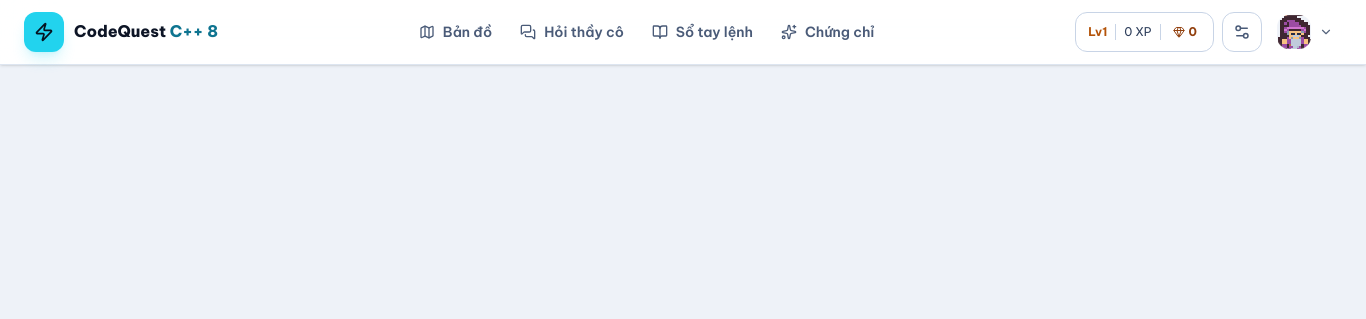
Test case: Thanh điều hướng — phân biệt giáo viên và học sinh › học sinh có menu chính một hàng và gom tùy chọn phụ
The width and height of the screenshot is (1366, 319).
Expected: the navigation bar named "Điều hướng chính" does not show "Hồ sơ", [419,23,874,41]
Click the button named "Mở tùy chọn giao diện". click: (1242,32)
box: [1222,12,1262,52]
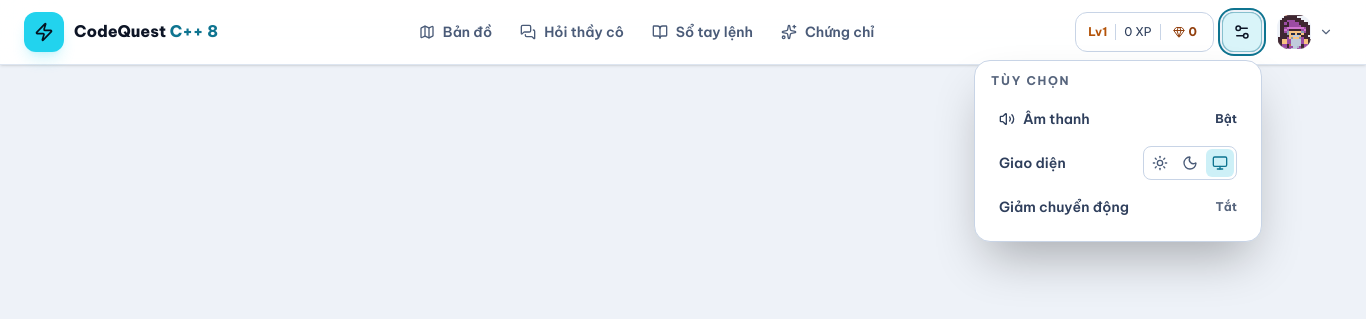
Expected: the element named "Tùy chọn giao diện" is shown, [974,60,1262,242]
Expected: the text "Giảm chuyển động" is shown, [999,197,1129,217]
Click the button named "Mở menu hồ sơ". click: (1306,32)
box: [1270,10,1342,54]
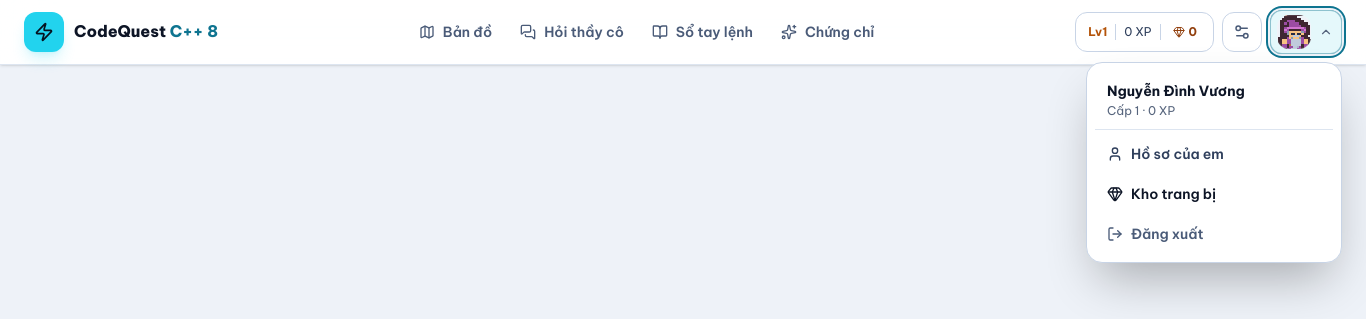
Expected: the element named "Menu hồ sơ" is shown, [1086,62,1342,263]
Expected: the link "Hồ sơ của em" is shown, [1107,145,1224,163]
Expected: the button "Đăng xuất" is shown, [1095,214,1333,254]
